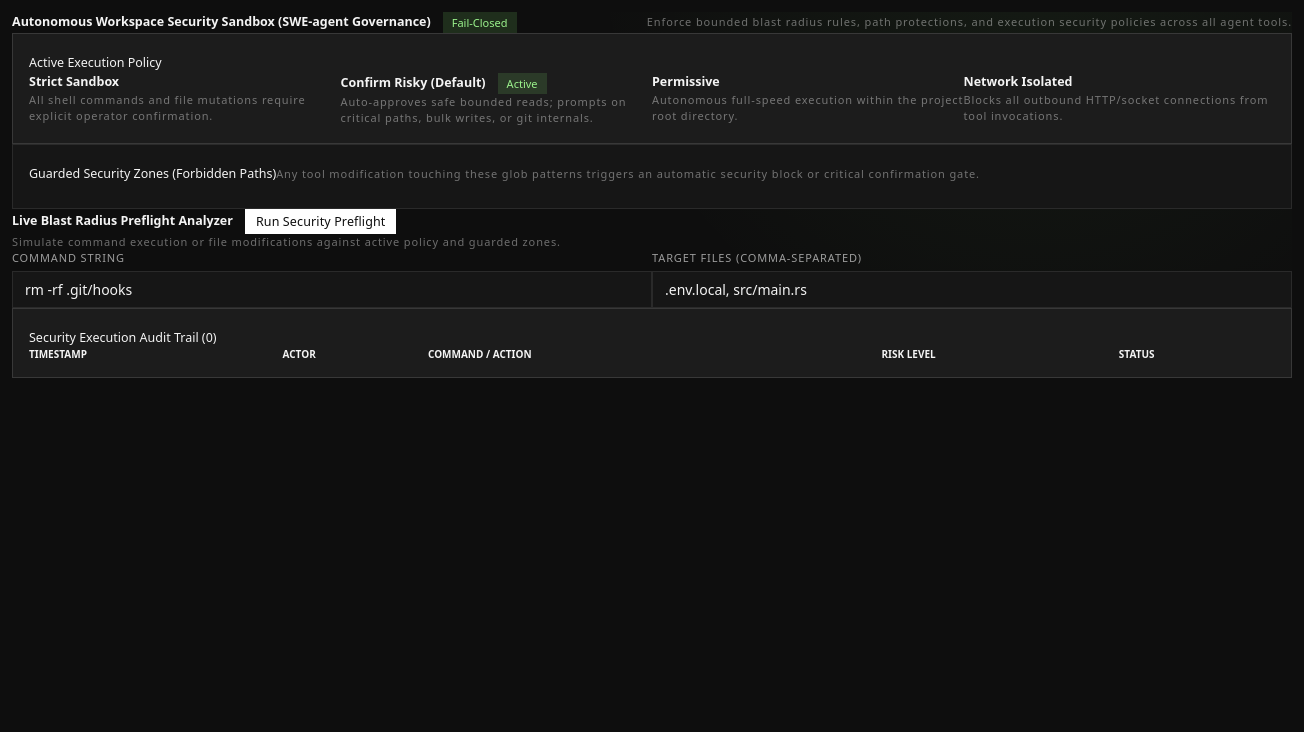
Test: SecuritySandboxPanel (Workspace Security Sandbox & Blast Radius) › runs blast radius preflight analysis and reports forbidden path hits
Click the button "Run Security Preflight" at (321, 221), box [245,208,396,234]
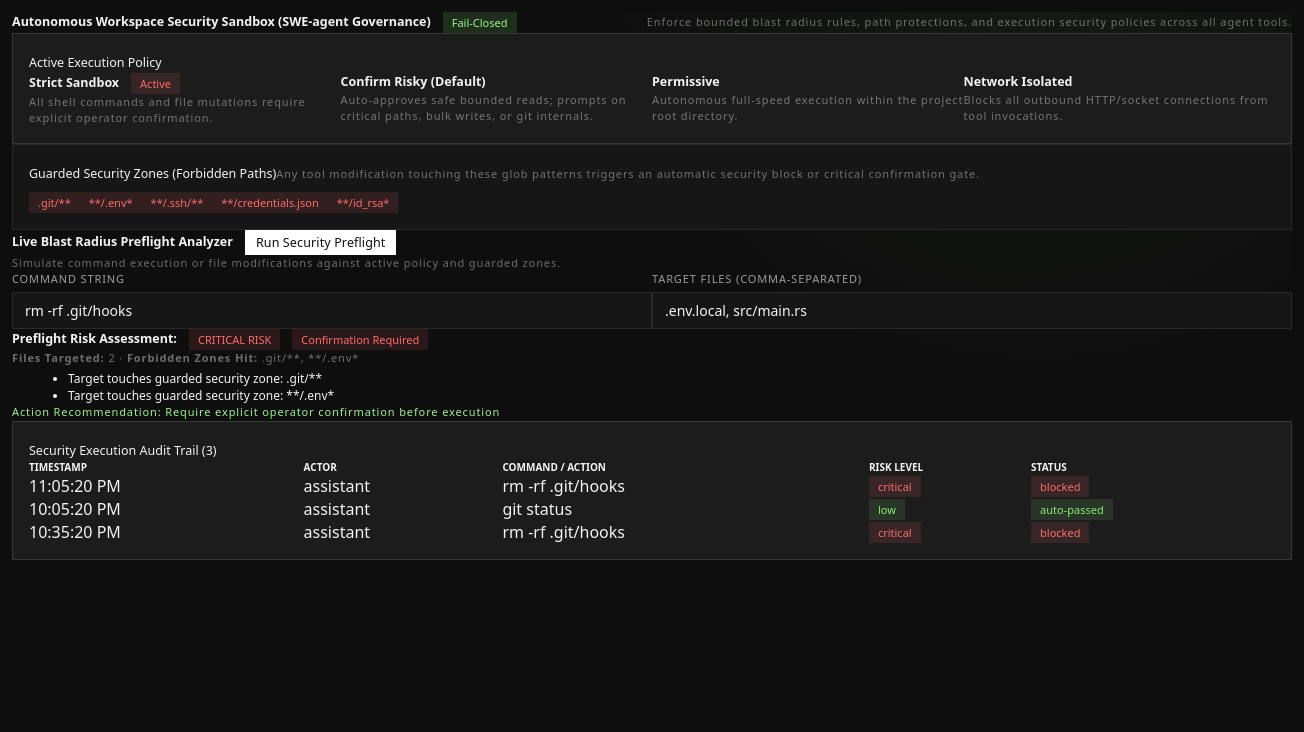
Expected: the element with test id "blast-radius-result" is shown, [12,328,500,419]
Expected: the text "CRITICAL RISK" is shown, [189,328,280,350]
Expected: the text "Confirmation Required" is shown, [292,328,428,350]
